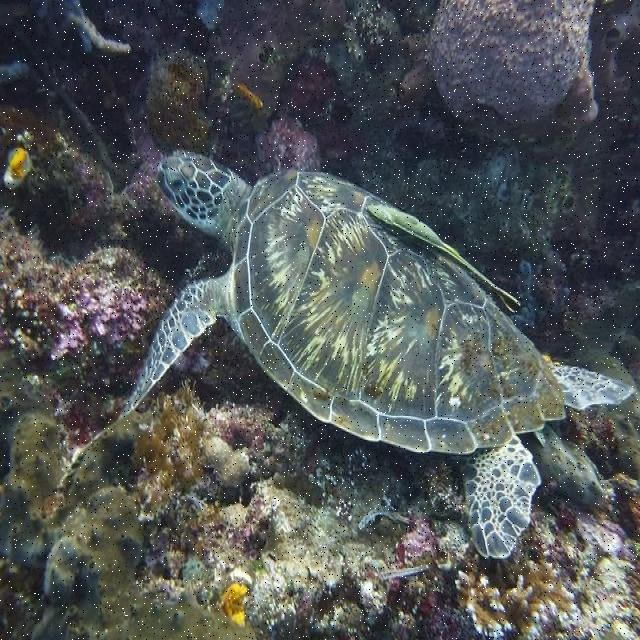fish: (120, 152, 635, 558), (369, 203, 520, 314)
